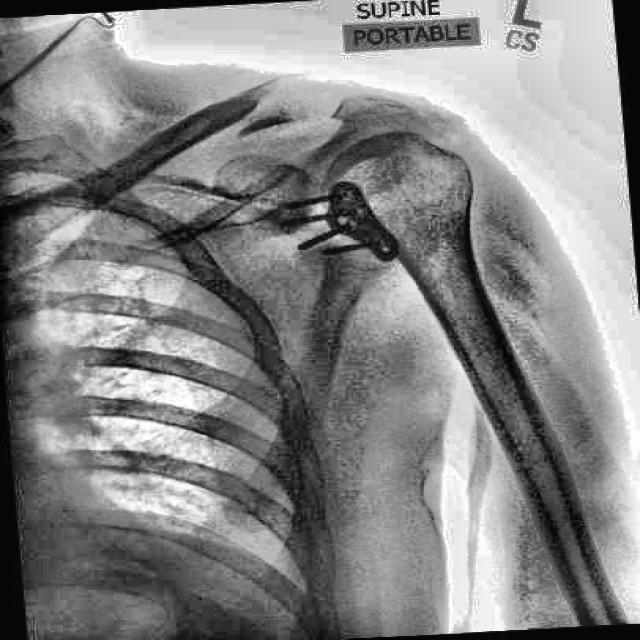shoulder fracture: (189, 63, 331, 160)
